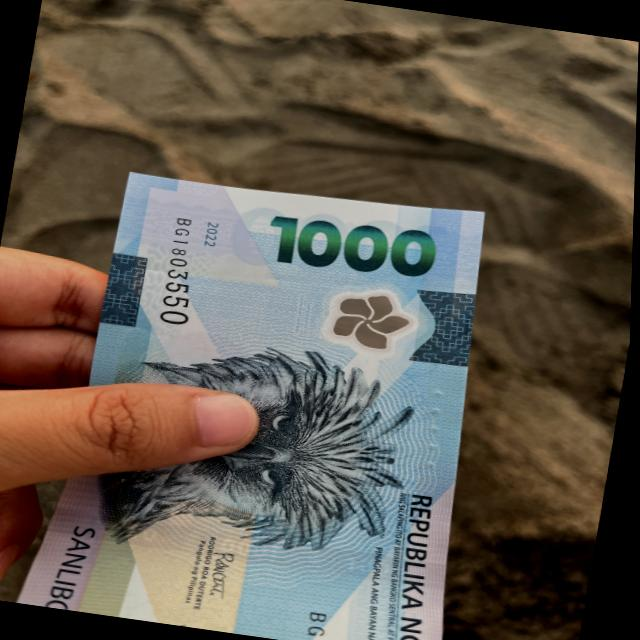eagle: (100, 316, 429, 566)
sampaguita: (307, 272, 424, 360)
